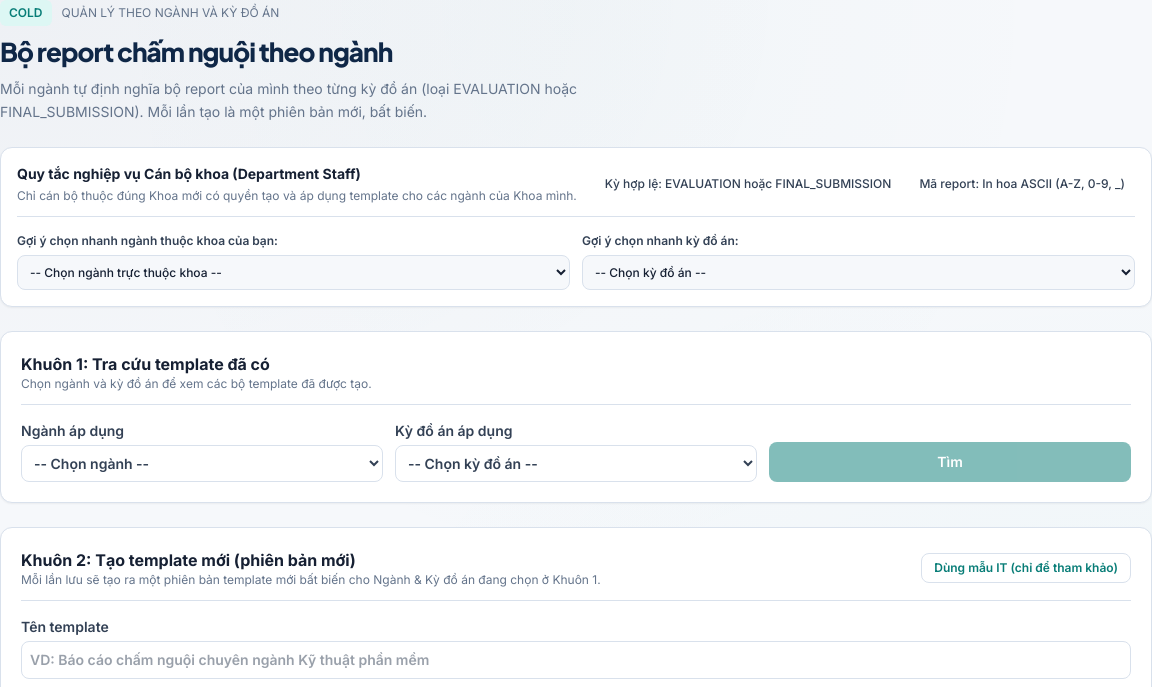
Test: ColdTemplateManagementPage › searches templates by major and period and lists them
Select "Marketing (MKT)" in the dropdown labelled "Ngành áp dụng" at (202, 464), box 21,445 -> 383,482
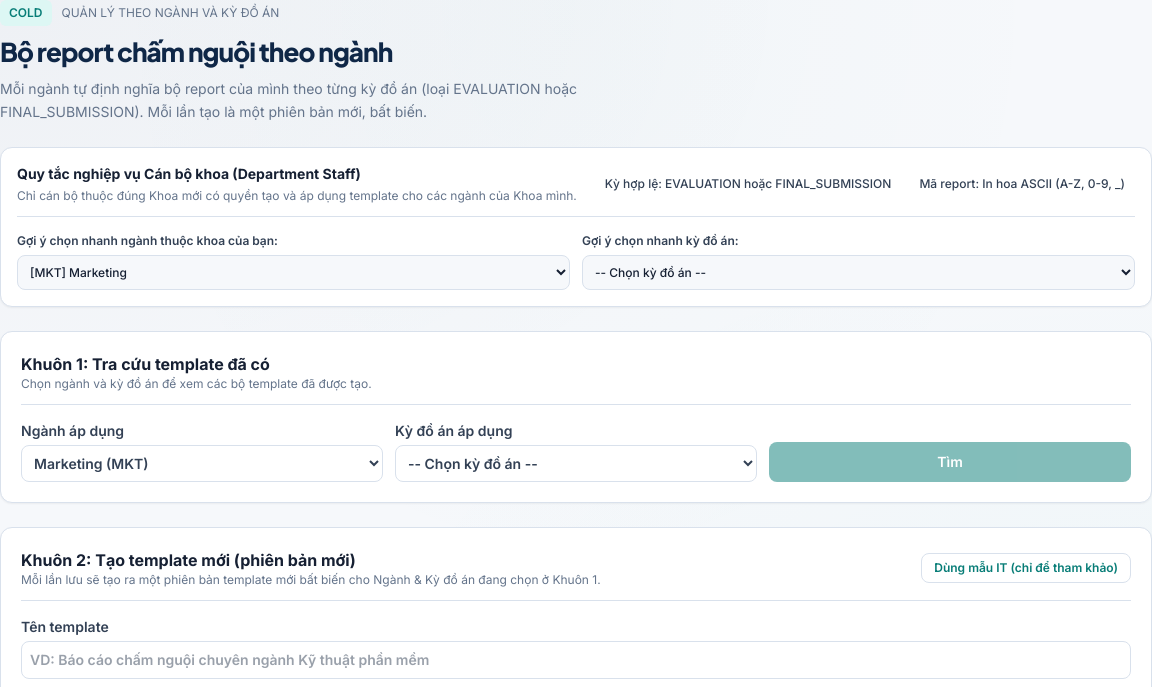
Select "Đánh giá cuối kỳ (EVAL)" in the dropdown labelled "Kỳ đồ án áp dụng" at (576, 464), box 395,445 -> 757,482
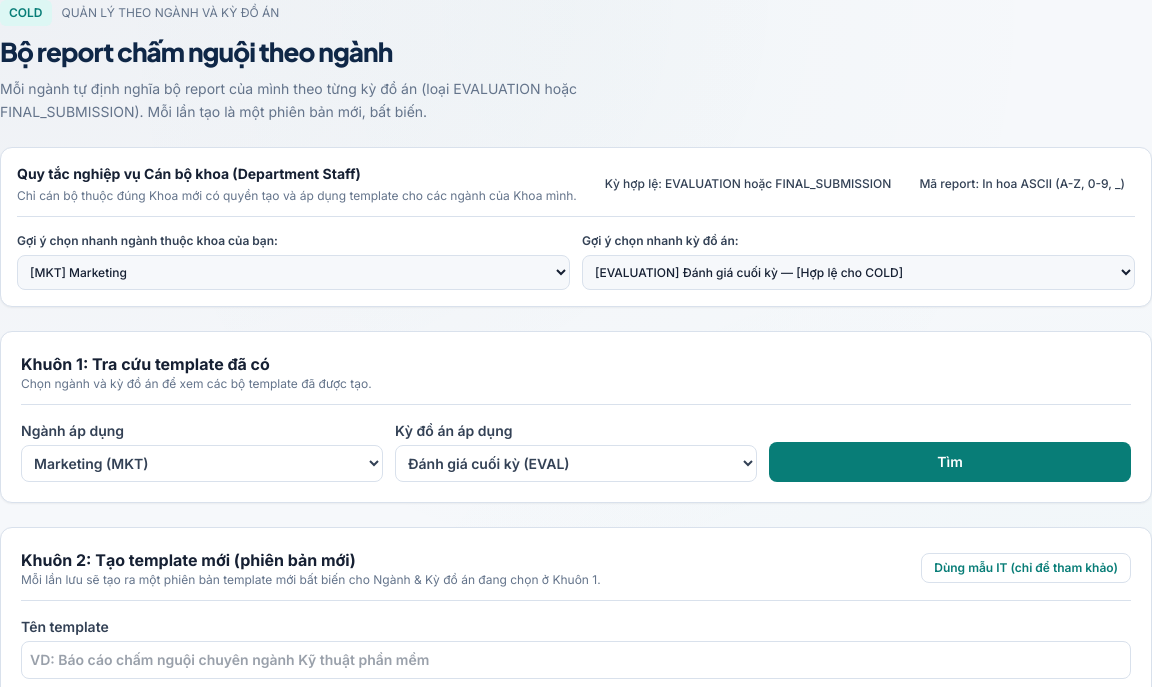
Click the button "Tìm" at (950, 462), box 769,442 -> 1131,482
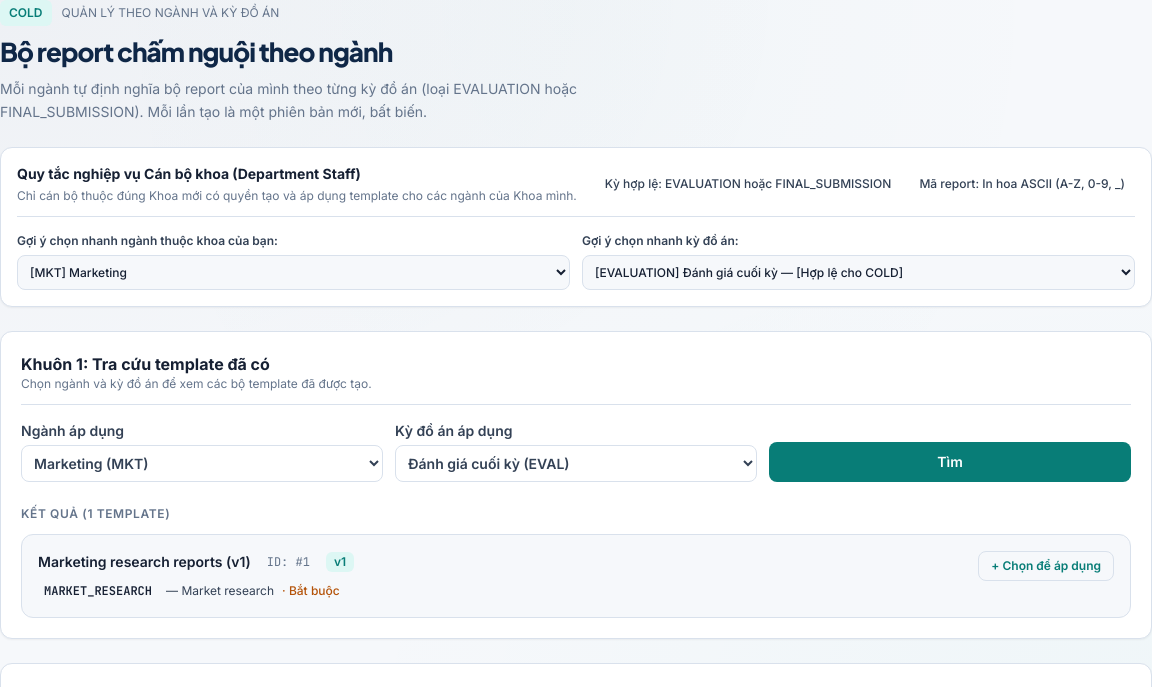
Expected: the text "Marketing research reports (v1)" is shown, 38,551 -> 251,574
Expected: the text "MARKET_RESEARCH" is shown, 38,582 -> 158,602
